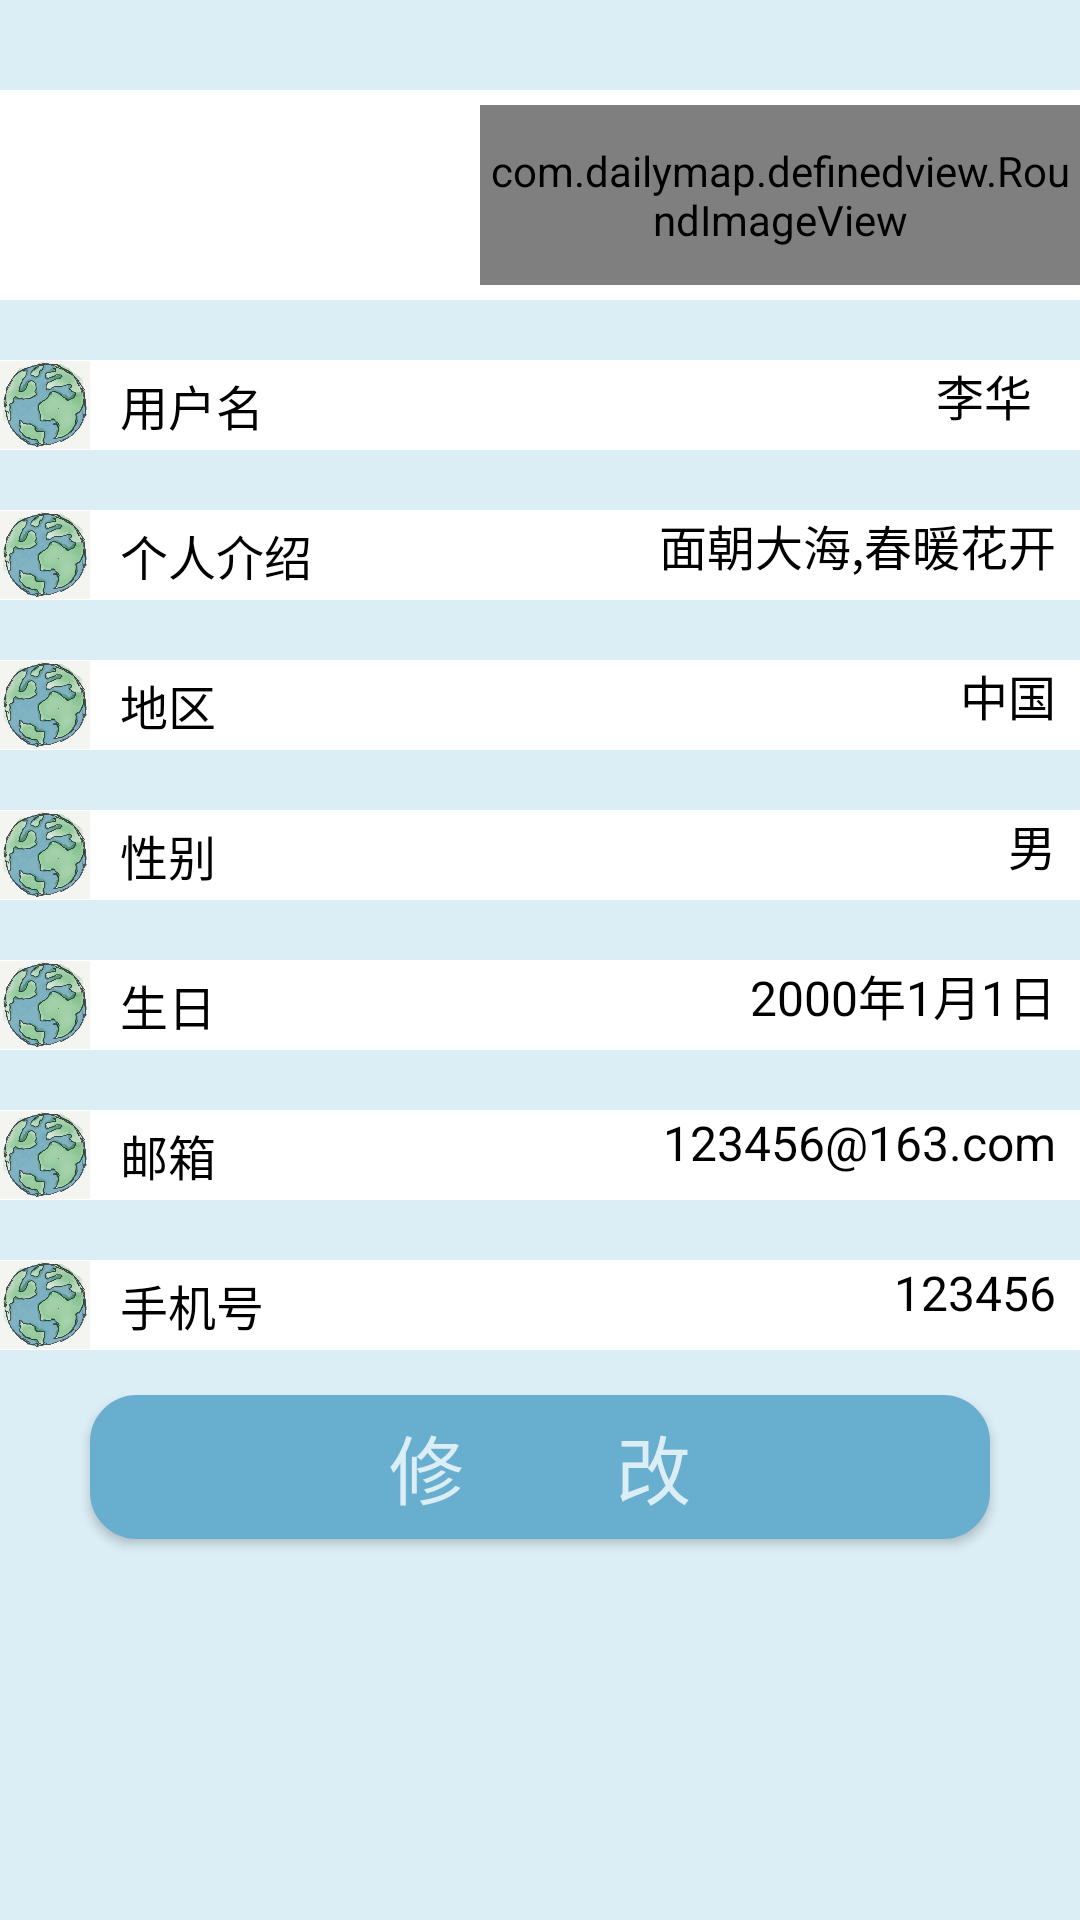

Where icons sit on this 1080 × 1920 app screen, as (x1, y1, x2, y2):
earth: (3, 362, 87, 447), (3, 512, 87, 597), (3, 662, 87, 747), (3, 812, 87, 897), (3, 962, 87, 1047), (3, 1112, 87, 1197), (3, 1262, 87, 1347)
